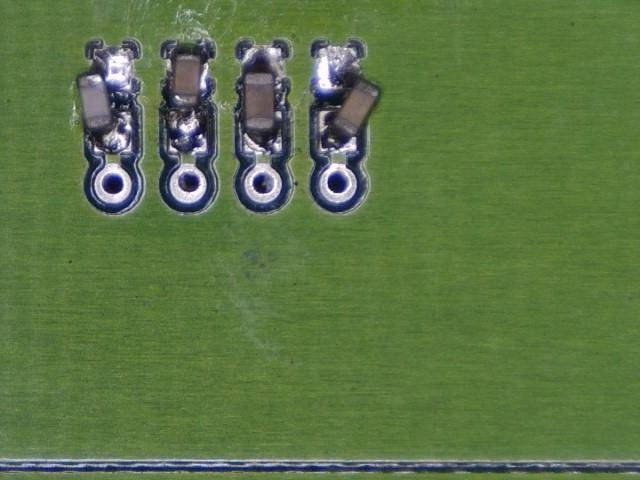pcb_defect: (315, 45, 382, 153), (76, 48, 135, 154), (166, 48, 211, 156), (165, 48, 210, 156)
